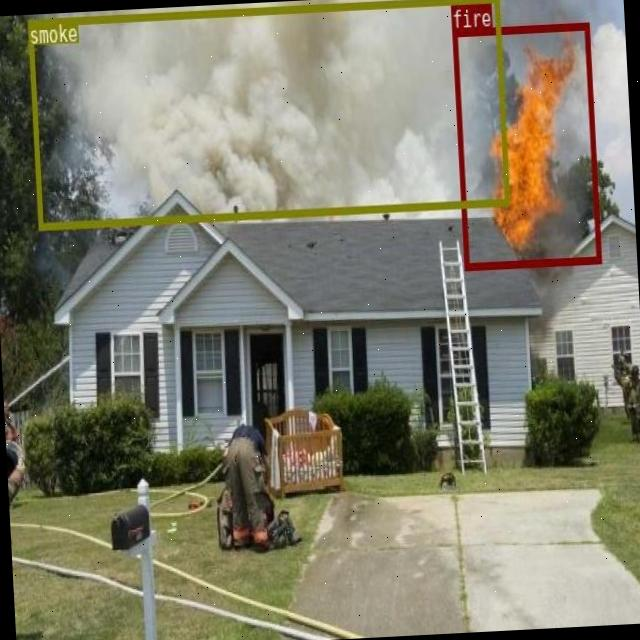fire: (452, 22, 601, 268)
smoke: (28, 0, 509, 229)
